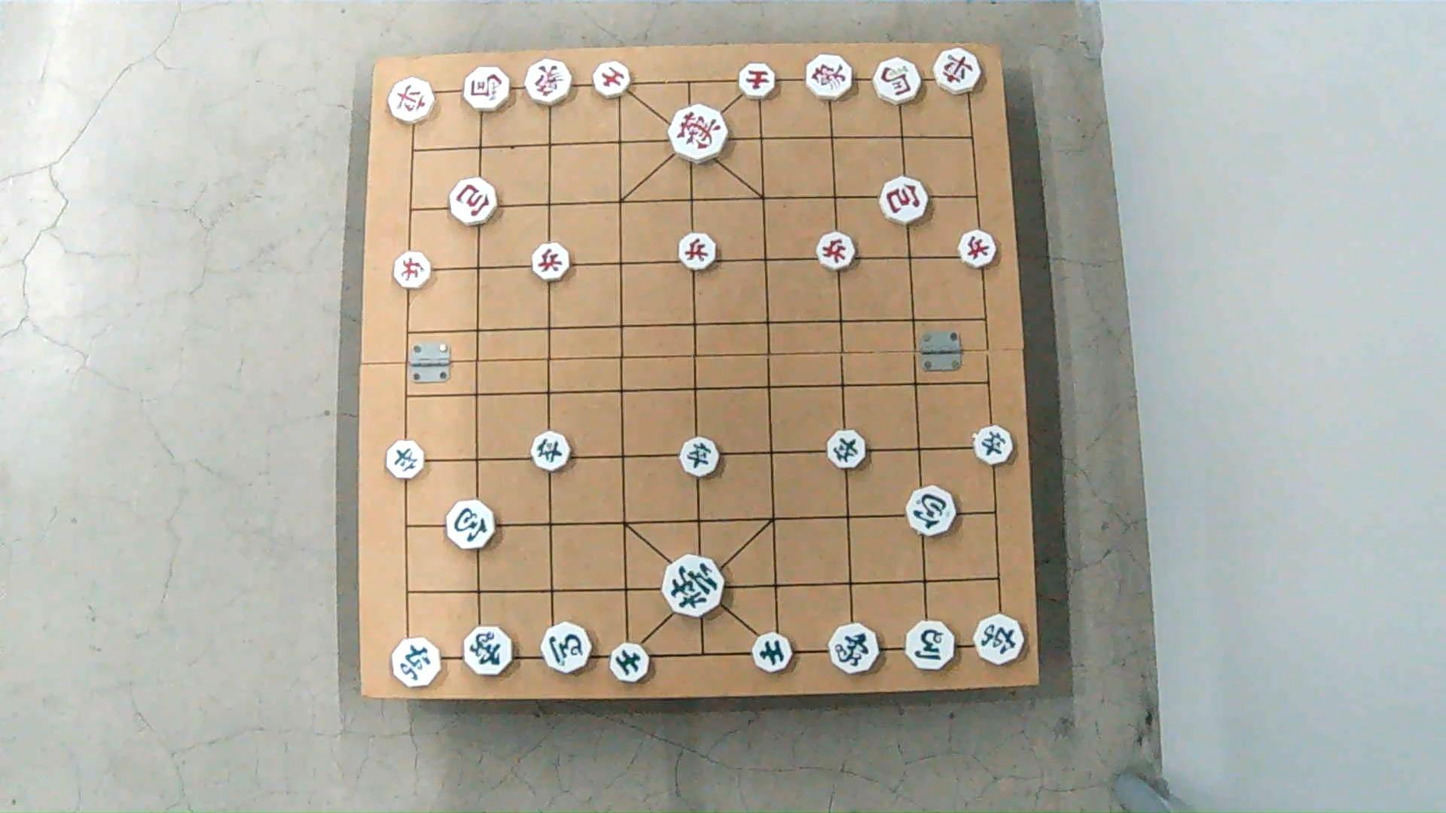cha_green: (975, 610, 1027, 663), (392, 641, 444, 689)
cha_red: (930, 49, 983, 92), (388, 80, 438, 120)
jol_green: (529, 432, 574, 469), (971, 427, 1015, 463), (676, 440, 719, 476), (824, 433, 867, 468), (387, 443, 430, 477)
jol_red: (392, 251, 434, 292), (956, 232, 999, 266), (815, 235, 859, 268), (676, 236, 718, 270), (531, 246, 572, 280)
ma_green: (905, 623, 958, 671), (540, 624, 593, 672)
ma_red: (871, 58, 923, 104), (463, 69, 514, 111)
po_green: (447, 504, 500, 550), (906, 490, 958, 534)
po_red: (880, 179, 932, 221), (450, 181, 499, 222)
sa_green: (609, 643, 653, 680), (754, 630, 792, 671)
sa_red: (592, 62, 631, 96), (737, 65, 777, 97)
sang_green: (826, 624, 881, 674), (462, 626, 515, 673)
sang_red: (525, 62, 576, 106), (804, 57, 854, 101)
wang_green: (662, 555, 725, 615)
wang_red: (667, 103, 731, 160)
